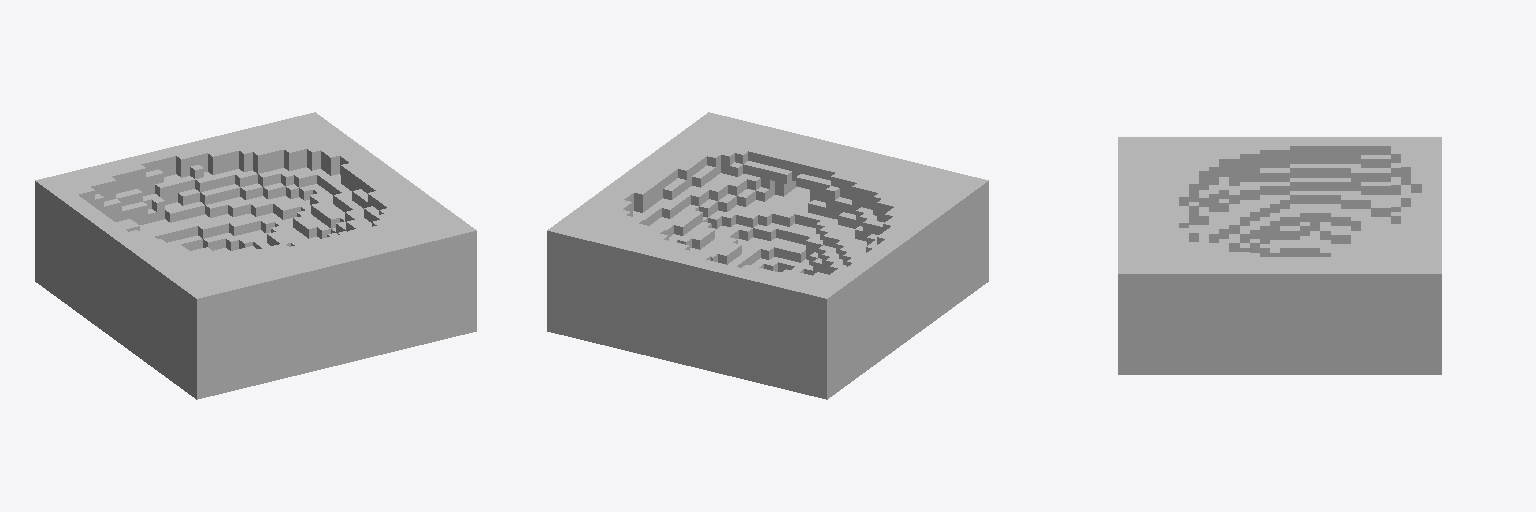
Rendered from Mine.obj.
3 views of the same model, side by side, from view 1: azimuth 30°, elevation 25°; view 2: azimuth 150°, elevation 25°; view 3: azimuth 270°, elevation 25° (orthographic).
Visible parts, largest first — view 1: object 1; view 2: object 1; view 3: object 1.
Part boxes in pixels (left/top/right/bottom): object 1: left=35, top=112, right=476, bottom=399; object 1: left=547, top=112, right=988, bottom=399; object 1: left=1118, top=137, right=1441, bottom=374.
Bounding box in the file's own units: 3.2 × 1.1 × 3.2.